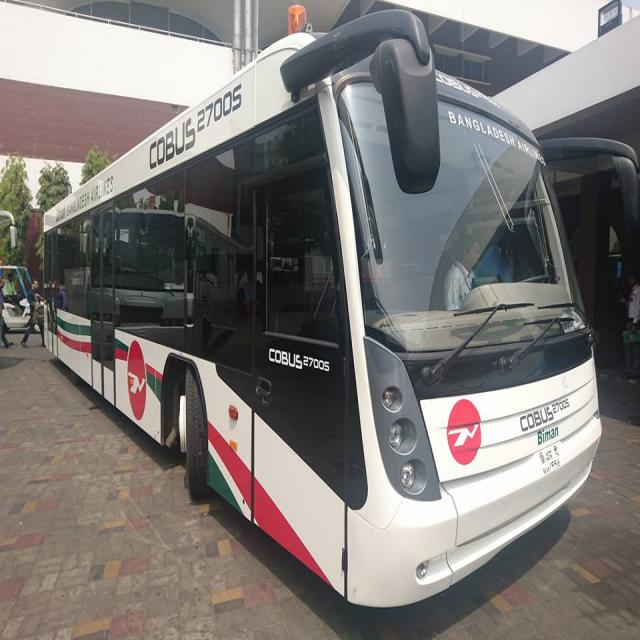bus: (43, 2, 639, 610)
